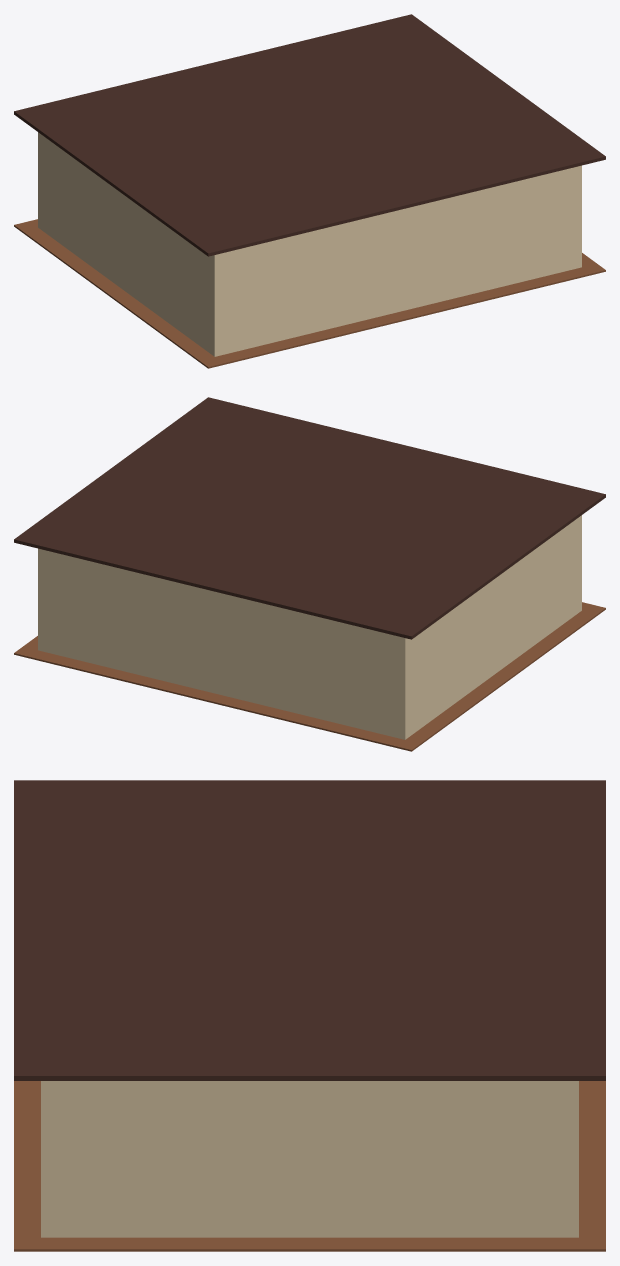
Rendered from guild_interior.glb.
The picture shows the model from 3 angles, top to bottom: view 1: azimuth 30°, elevation 25°; view 2: azimuth 150°, elevation 25°; view 3: azimuth 270°, elevation 25°; orthographic projection. The views are drawn at different scales.
Parts seen in each view (by area): view 1: floor; view 2: floor; view 3: floor.
Boxes of the visible parts, bbox=[...] form: floor: bbox=[14, 14, 605, 368]; floor: bbox=[14, 397, 605, 751]; floor: bbox=[14, 780, 605, 1251].
Bounding box in the file's own units: 26 × 7.2 × 22.
